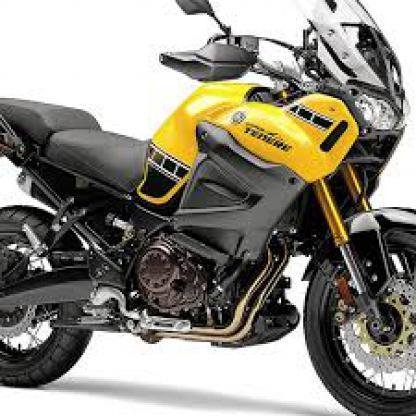Motorcycle: (2, 0, 414, 414)
